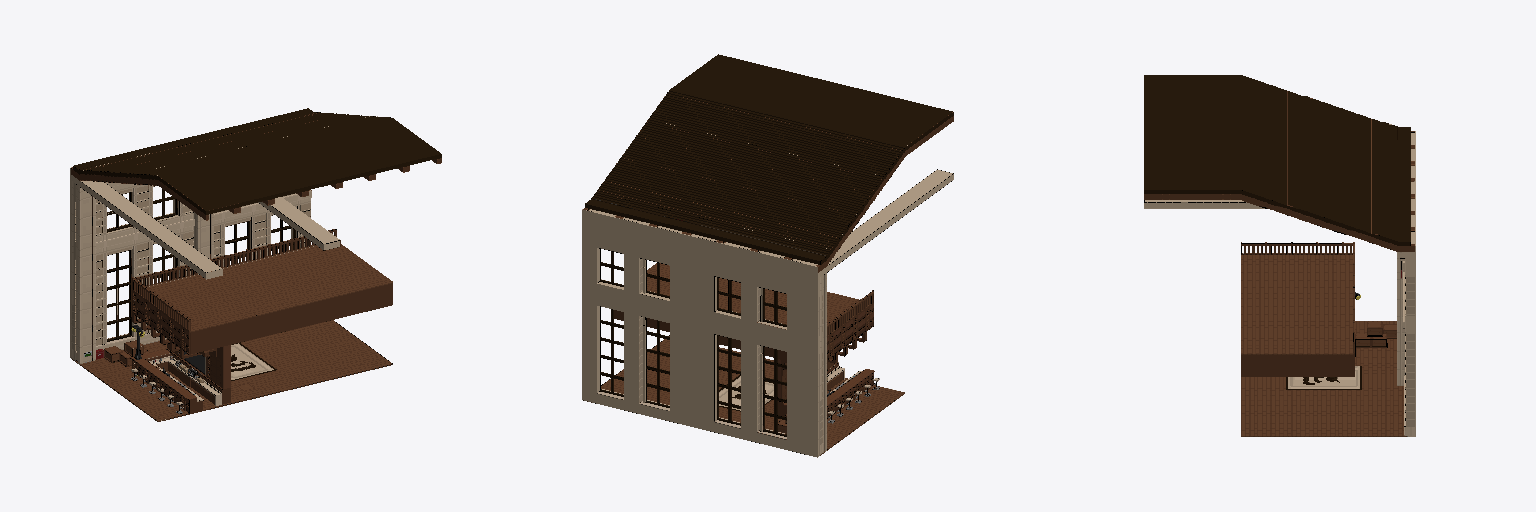
The picture shows the model from 3 angles: view 1: azimuth 30°, elevation 25°; view 2: azimuth 150°, elevation 25°; view 3: azimuth 270°, elevation 25°; orthographic projection.
Visible parts, largest first — view 1: Scene_Terrain_Guild_B_M; view 2: Scene_Terrain_Guild_B_M; view 3: Scene_Terrain_Guild_B_M.
Part boxes in pixels (bbox=[...]): Scene_Terrain_Guild_B_M: bbox=[70, 108, 441, 421]; Scene_Terrain_Guild_B_M: bbox=[582, 54, 953, 457]; Scene_Terrain_Guild_B_M: bbox=[1144, 75, 1415, 436].
Bounding box in the file's own units: 25.6 × 25.6 × 25.6.
1 materials, 1 textured.